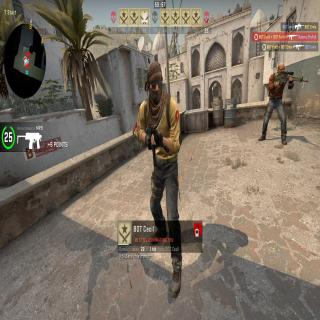T-Body: (136, 57, 188, 300), (259, 61, 293, 145)
T-Head: (145, 61, 163, 102), (276, 63, 286, 75)
